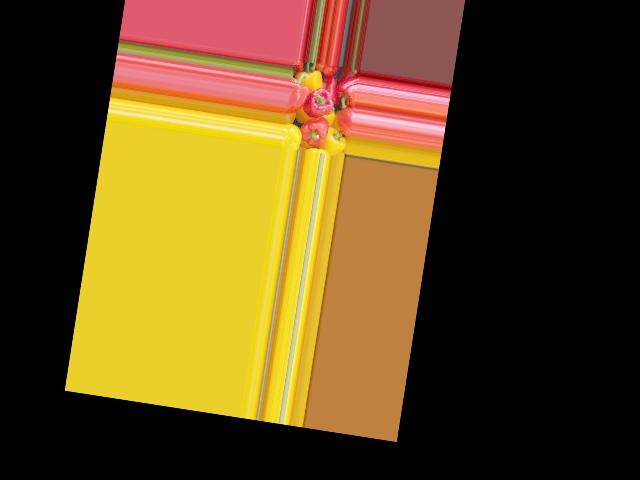bell_pepper: (320, 129, 345, 156)
